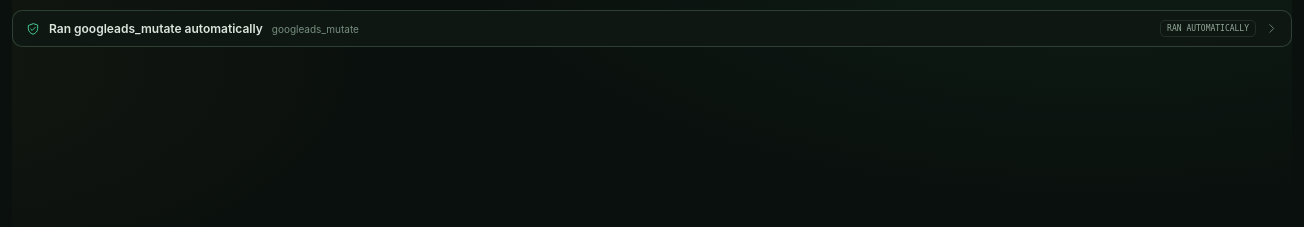
Test case: finished action cards › folds a finished card to one line and opens it on tap
The width and height of the screenshot is (1304, 227).
Expected: the text "\"customer_id\": \"42\"" is not shown
Step 1. Click the button "Ran googleads_mutate automatically" → (156, 28), box x1=13 y1=11 x2=1291 y2=46
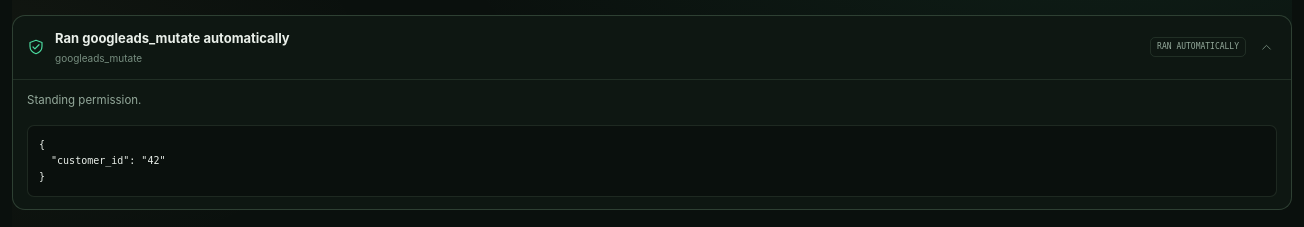
Expected: the text "{ \"customer_id\": \"42\" }" is shown, x1=27 y1=125 x2=1277 y2=197
Step 2. Click the button named "Collapse" → (1266, 47), box x1=1256 y1=37 x2=1277 y2=58
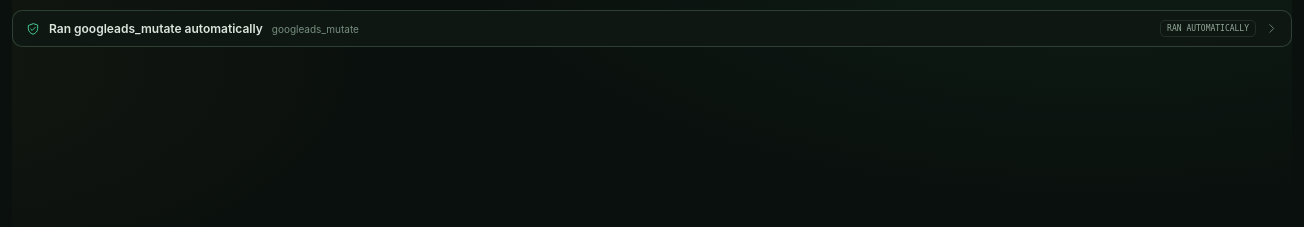
Expected: the text "\"customer_id\": \"42\"" is gone
